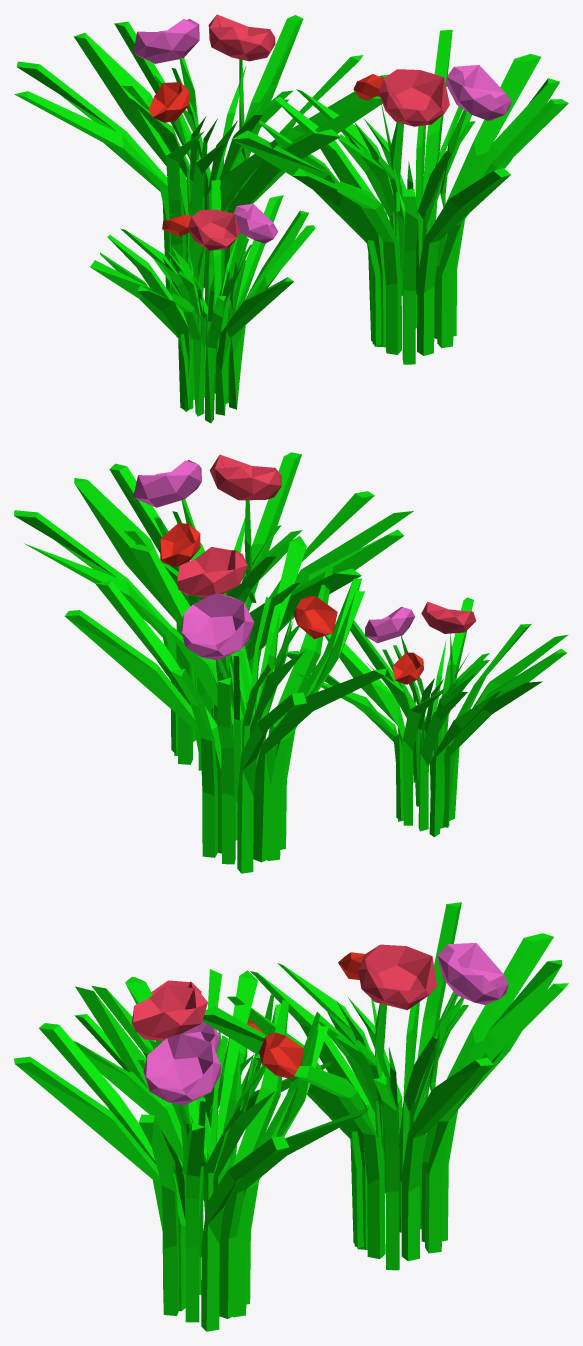
File: cvece 2.fbx
3 renders of one model, top to bottom at view 1: azimuth 30°, elevation 25°; view 2: azimuth 150°, elevation 25°; view 3: azimuth 270°, elevation 25°, orthographic. The views are drawn at different scales.
Visible parts, largest first — view 1: Icosphere.023; view 2: Icosphere.023; view 3: Icosphere.023.
Part boxes in pixels (x1,y1,x2,y2): Icosphere.023: (14,14,568,423); Icosphere.023: (14,452,568,873); Icosphere.023: (14,902,568,1331).
Bounding box in the file's own units: 173 × 103 × 157.
